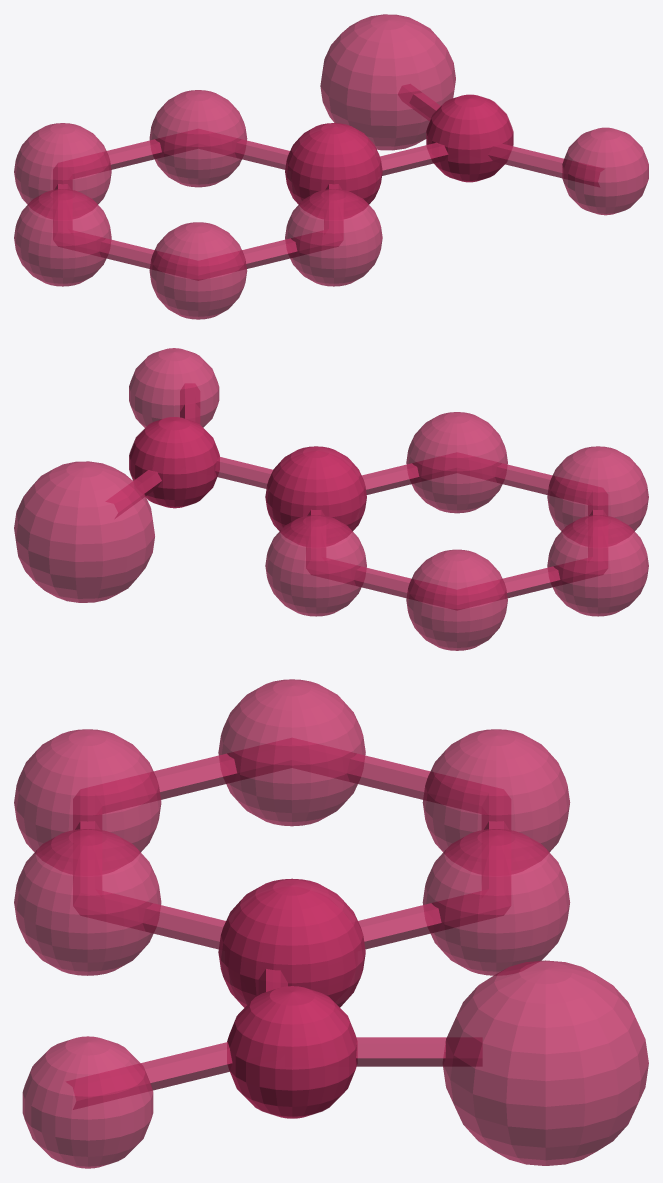
Rendered from molecule2.glb.
3 renders of one model, top to bottom at view 1: azimuth 30°, elevation 25°; view 2: azimuth 150°, elevation 25°; view 3: azimuth 270°, elevation 25°, orthographic. The views are drawn at different scales.
Bounding box in the file's own units: 0.6554 × 0.14 × 0.4306.
